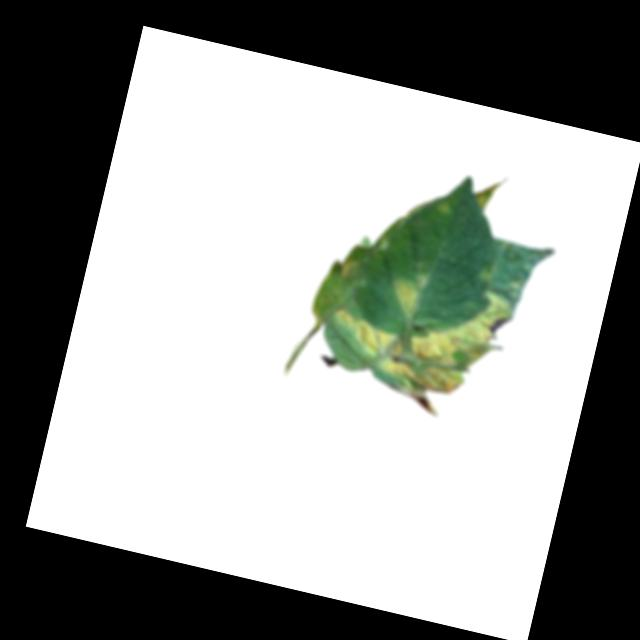Leaf_Mold: (395, 274, 516, 430), (323, 308, 423, 384), (384, 262, 430, 321), (469, 166, 514, 216), (334, 254, 359, 284)
